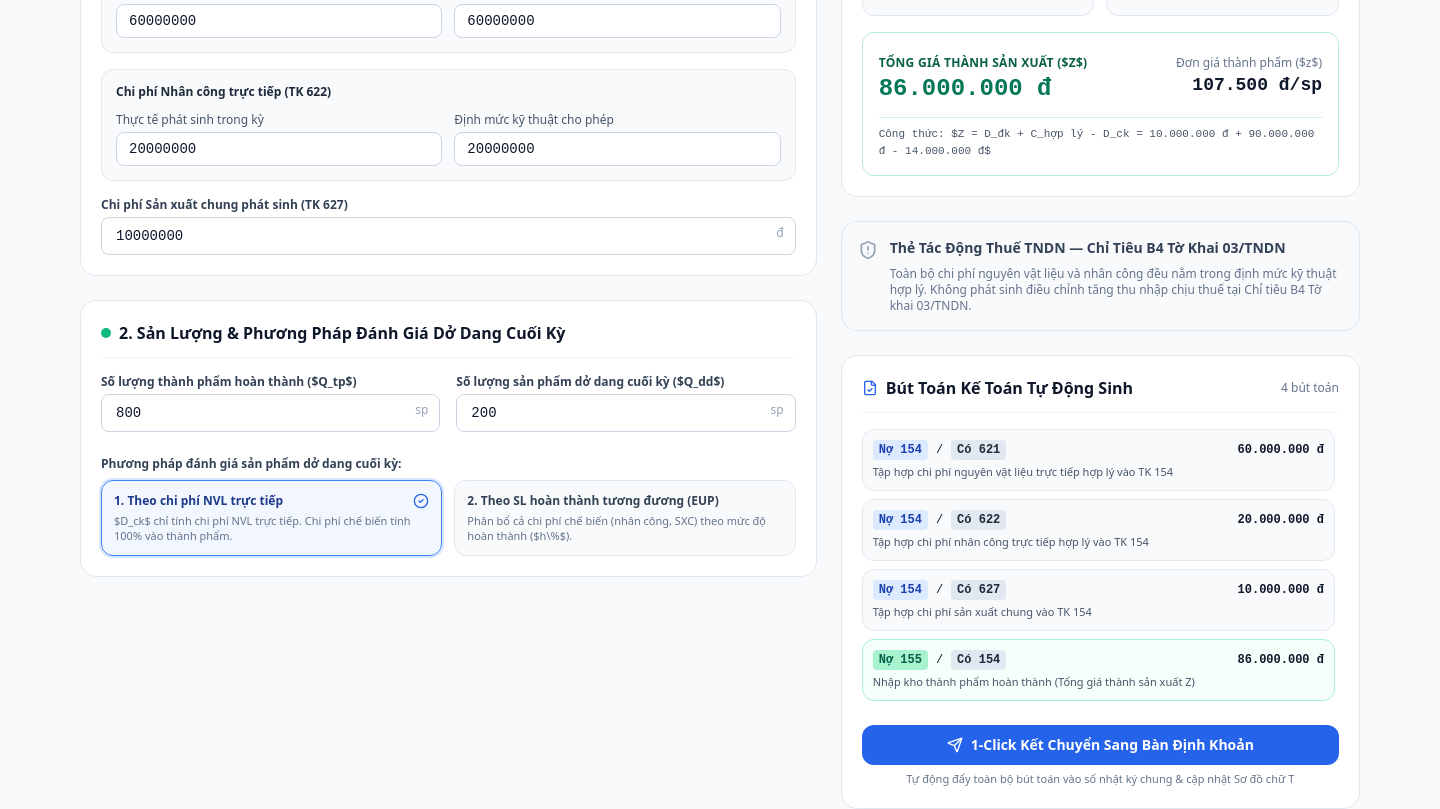
Test: Manufacturing Cost Workbench & Abnormal Waste Calculator (ManufacturingCostCalculator.tsx) › T3.4: Switches WIP method between "Direct Material" and "EUP" and verifies difference in ending WIP
(page scrolled)
expect the text with test id "kpi-total-cost-z" reads "86.000.000 đ": met, box [879,75,1052,102]
Click the button with test id "wip-method-EQUIVALENT_UNITS". click: (625, 518)
box: [454,480,796,556]
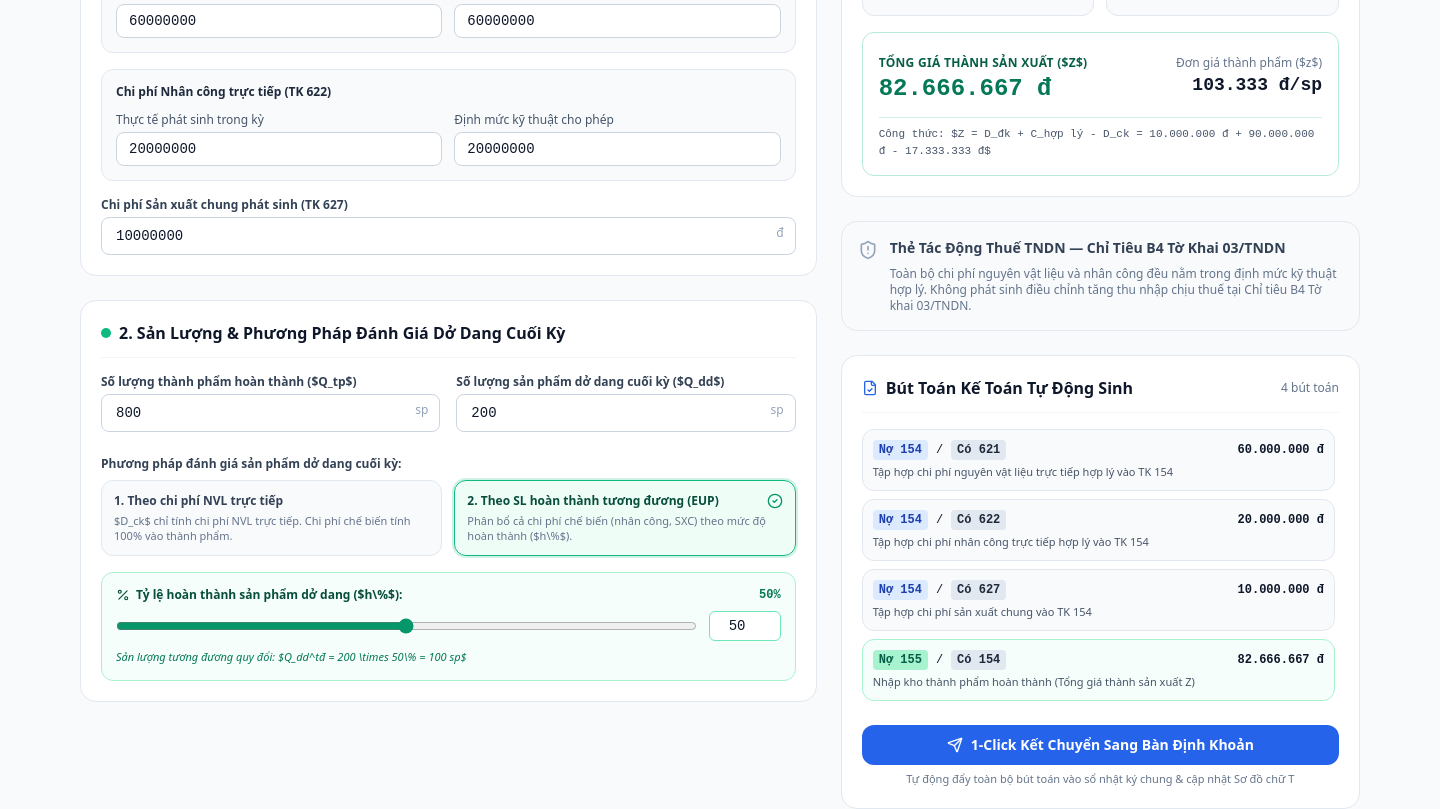
expect the text with test id "kpi-total-cost-z" reads "82.666.667 đ": met, box [879,75,1052,102]
